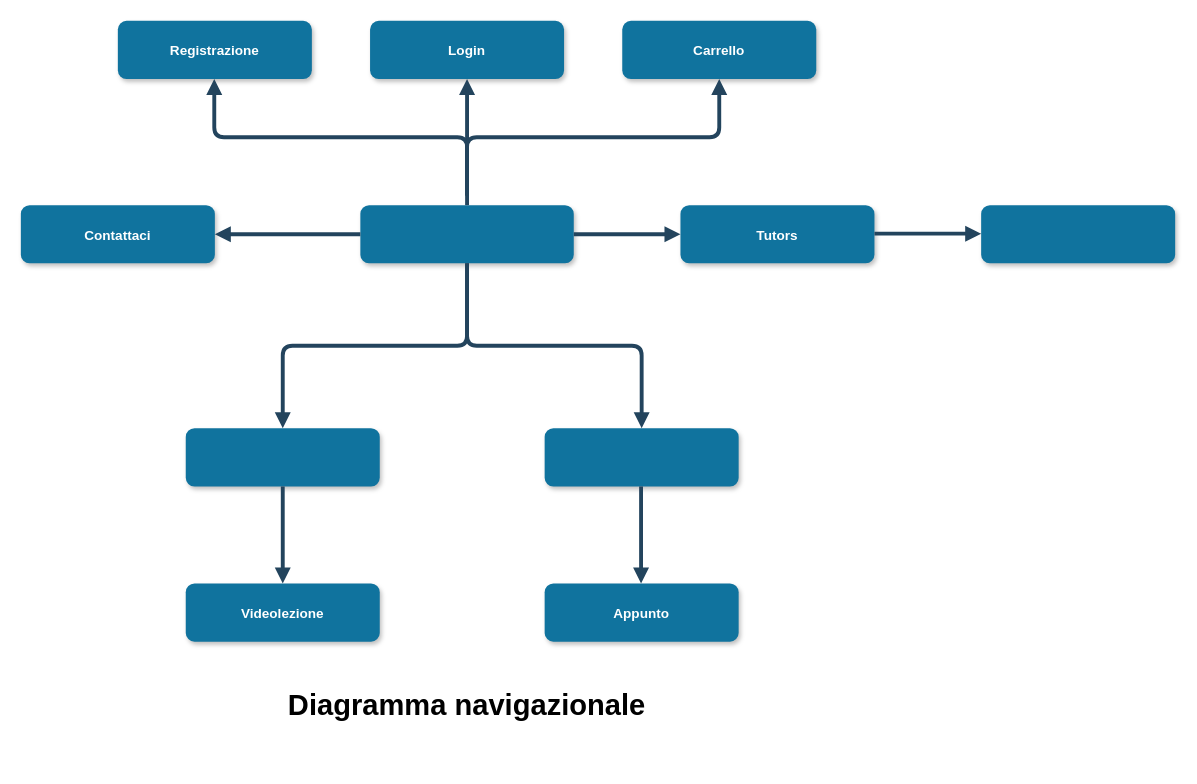
Some shapes in this 1197 by 784 pixel diagram are drawn without their labels. Here are the shapes that lost their labels. From the top down, the centre of each, then its label:
[467,235]: Home
[1078,235]: Tutor
[283,458]: Videolezioni
[642,458]: Appunti
